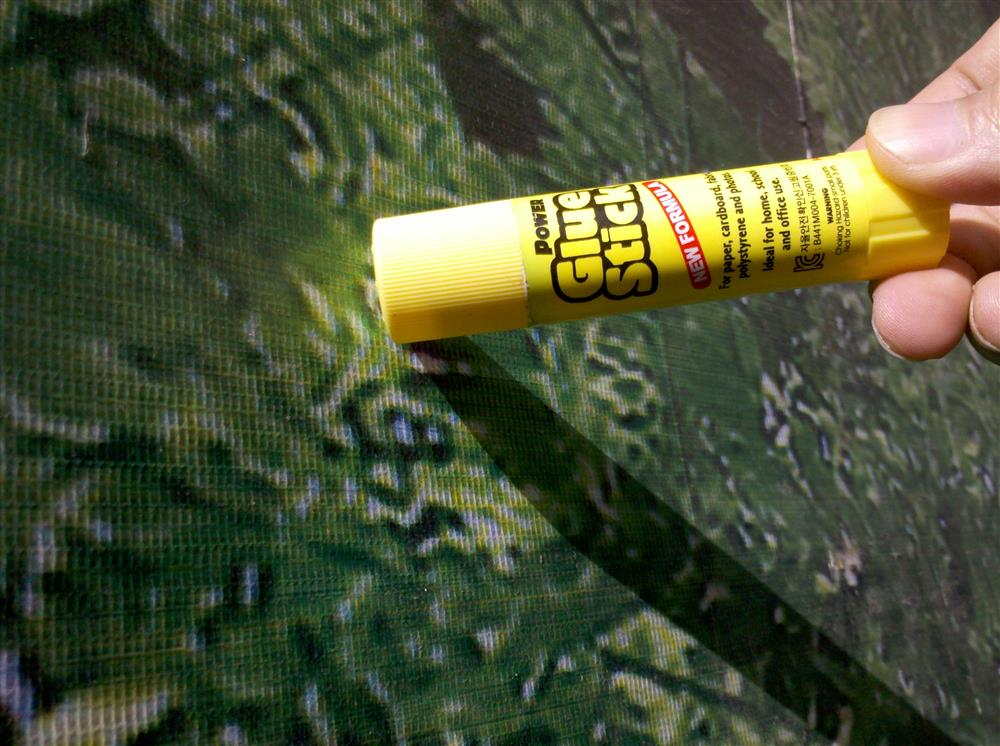Glue_stick: (374, 150, 953, 345)
